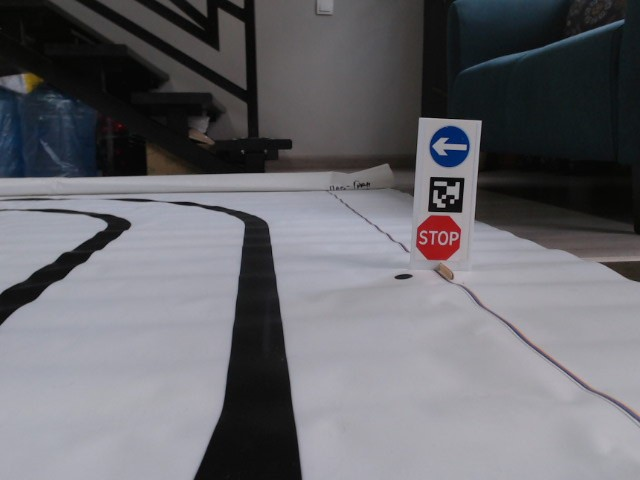Stop: (414, 213, 460, 265)
